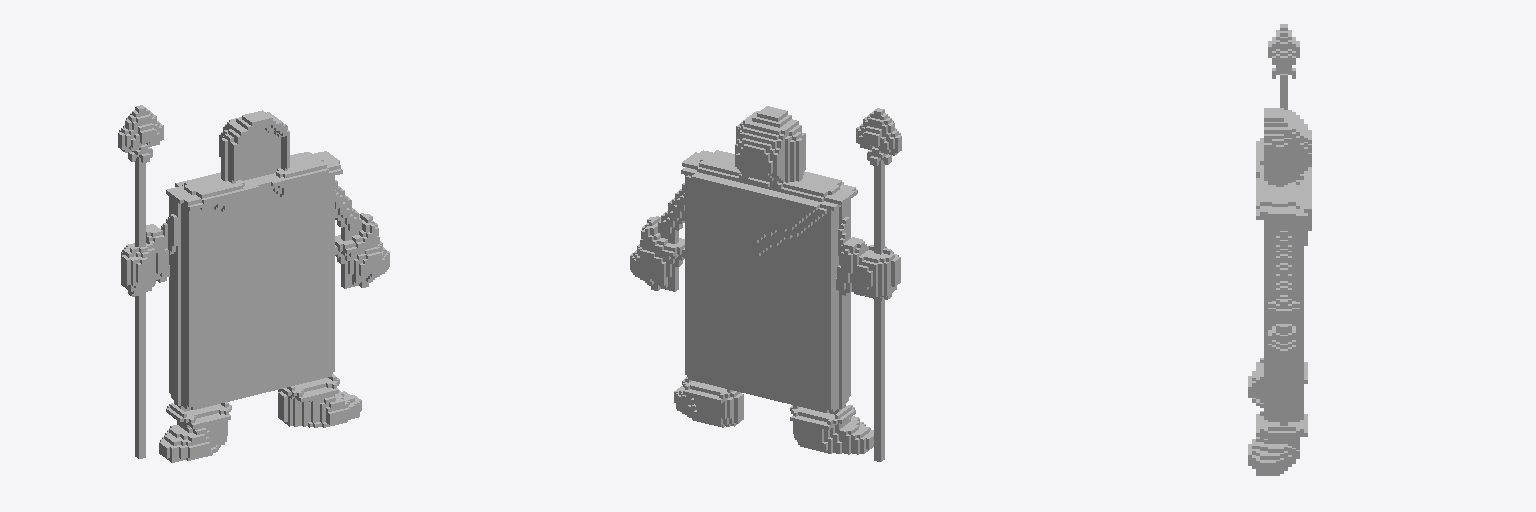
File: trump_soldier 1.obj
3 renders of one model, left to right at view 1: azimuth 30°, elevation 25°; view 2: azimuth 150°, elevation 25°; view 3: azimuth 270°, elevation 25°, orthographic.
Parts seen in each view (by area): view 1: object 1; view 2: object 1; view 3: object 1.
Boxes of the visible parts, <box> form: object 1: <box>118,105,389,462</box>; object 1: <box>630,106,901,461</box>; object 1: <box>1248,24,1311,475</box>.
Bounding box in the file's own units: 7.7 × 9.6 × 1.6.